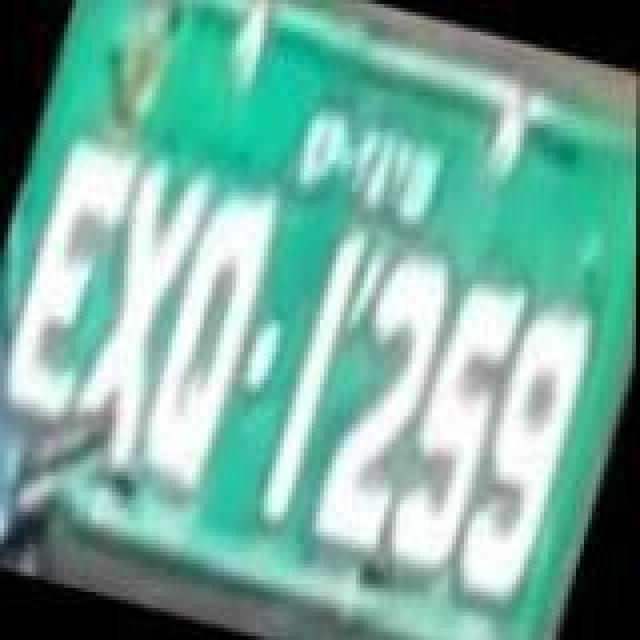1: (258, 220, 374, 532)
2: (306, 242, 466, 570)
5: (450, 292, 606, 612), (376, 270, 528, 590)
E: (0, 124, 144, 424)
Q: (124, 178, 284, 514)
X: (62, 148, 218, 476)
